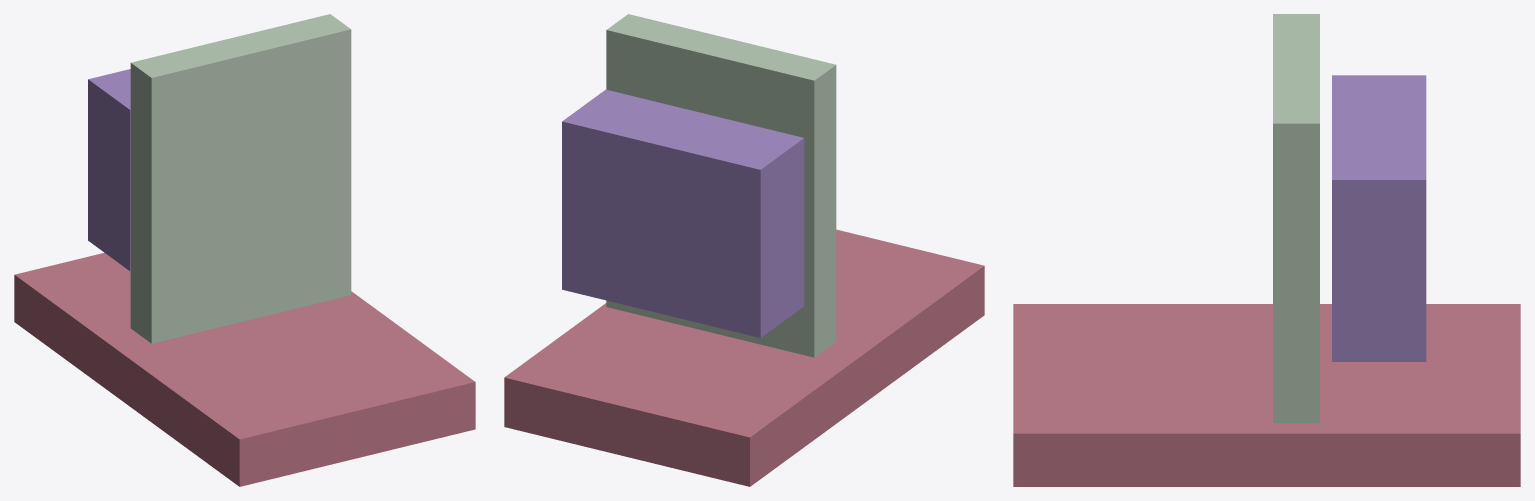
The picture shows the model from 3 angles, left to right: view 1: azimuth 30°, elevation 25°; view 2: azimuth 150°, elevation 25°; view 3: azimuth 270°, elevation 25°; orthographic projection. The views are drawn at different scales.
Visible parts, largest first — view 1: world; view 2: world; view 3: world.
Part boxes in pixels (box(x1,y1,x2,y2)): world: box(14, 14, 475, 486); world: box(504, 14, 984, 486); world: box(1013, 14, 1520, 486).
Size of the model in its own units: 2.6 by 3.35 by 4.3.
